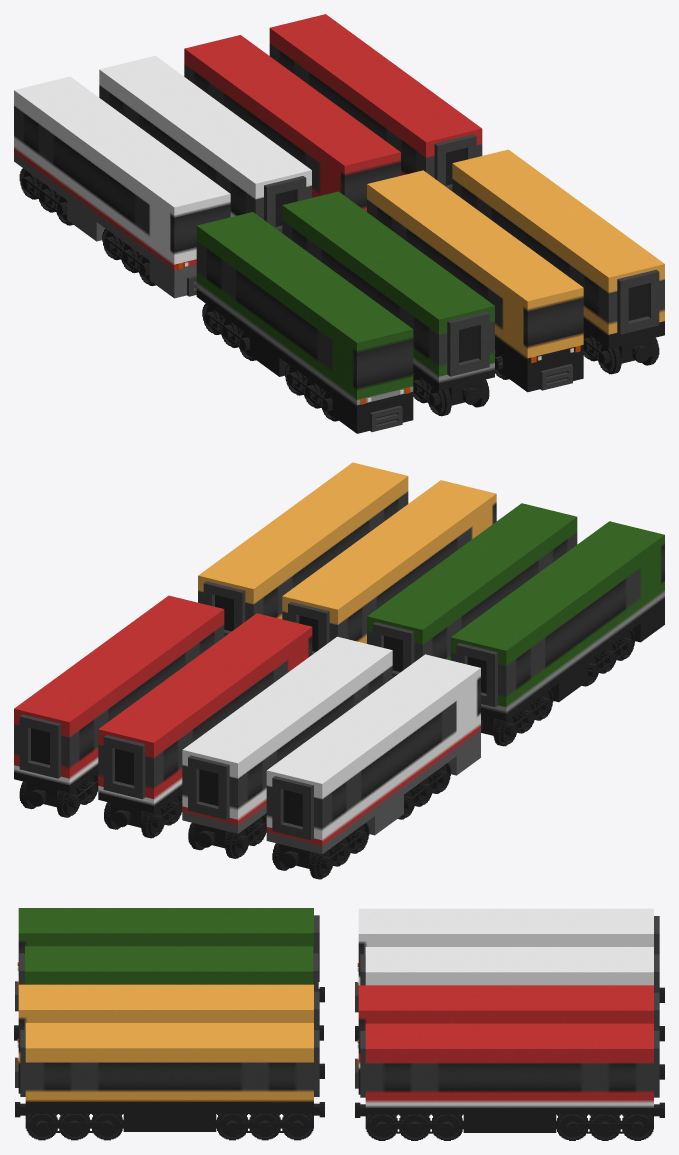
Rendered from Vehicles_01.fbx.
3 views of the same model, one above another, from view 1: azimuth 30°, elevation 25°; view 2: azimuth 150°, elevation 25°; view 3: azimuth 270°, elevation 25° (orthographic). The views are drawn at different scales.
Visible parts, largest first — view 1: Train_01, Train_03, Train_02, Train_02_part, Train_01_part, Train_04, Train_03_part, Train_04_part; view 2: Train_03, Train_01, Train_04, Train_04_part, Train_03_part, Train_02, Train_01_part, Train_02_part; view 3: Train_04_part, Train_02_part, Train_04, Train_02, Train_01, Train_03, Train_03_part, Train_01_part.
Boxes of the visible parts, x1,y1,x2,y2 form: Train_01: [196, 212, 413, 433]; Train_03: [14, 76, 230, 298]; Train_02: [367, 170, 583, 392]; Train_02_part: [452, 149, 664, 374]; Train_01_part: [282, 191, 494, 416]; Train_04: [184, 35, 400, 211]; Train_03_part: [99, 55, 311, 232]; Train_04_part: [269, 14, 482, 190]; Train_03: [266, 654, 480, 879]; Train_01: [450, 521, 664, 746]; Train_04: [98, 613, 312, 838]; Train_04_part: [14, 595, 224, 817]; Train_03_part: [182, 636, 392, 858]; Train_02: [282, 480, 496, 654]; Train_01_part: [367, 503, 577, 677]; Train_02_part: [198, 462, 408, 636]; Train_04_part: [355, 1023, 664, 1140]; Train_02_part: [15, 1023, 324, 1140]; Train_04: [355, 985, 664, 1094]; Train_02: [15, 984, 324, 1093]; Train_01: [15, 908, 324, 1011]; Train_03: [355, 908, 664, 1012]; Train_03_part: [355, 947, 664, 1041]; Train_01_part: [14, 946, 323, 1040].
Size of the model in its own units: 368 by 116 by 718.
